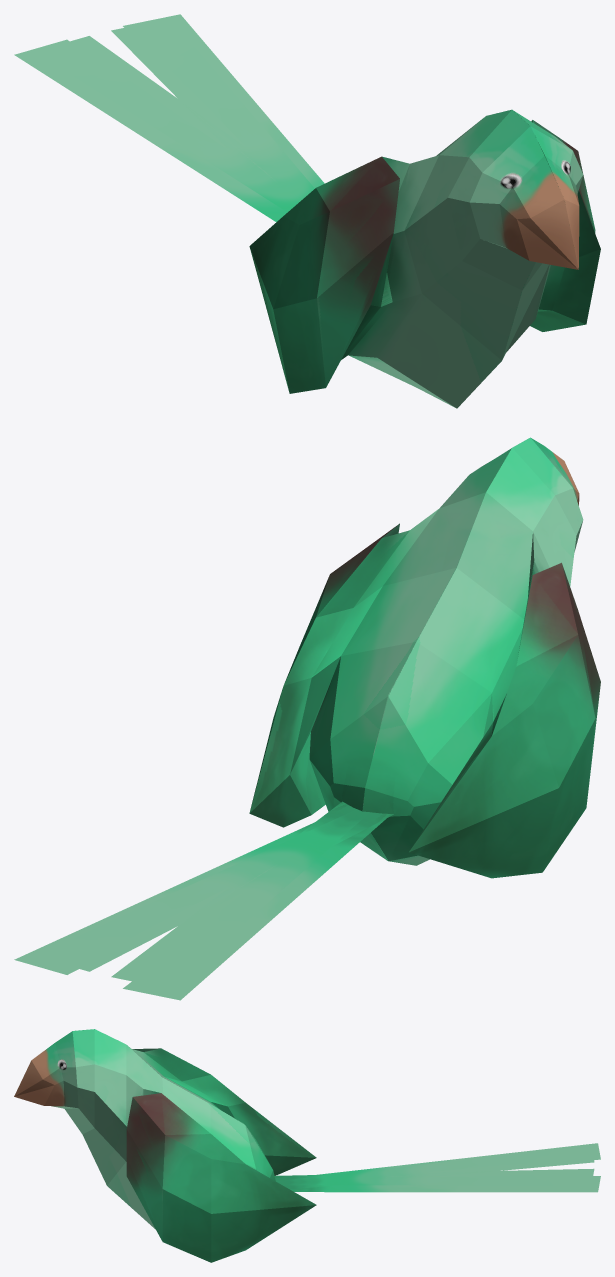
Rendered from mintybird.glb.
3 renders of one model, top to bottom at view 1: azimuth 30°, elevation 25°; view 2: azimuth 150°, elevation 25°; view 3: azimuth 270°, elevation 25°, orthographic. The views are drawn at different scales.
Visible parts, largest first — view 1: Cylinder; view 2: Cylinder; view 3: Cylinder.
Part boxes in pixels (bbox=[...]): Cylinder: bbox=[14, 14, 600, 408]; Cylinder: bbox=[14, 437, 600, 1000]; Cylinder: bbox=[14, 1029, 600, 1262].
Bounding box in the file's own units: 5.14 × 5.98 × 15.07.
Materials: 1 (1 with a texture image).
